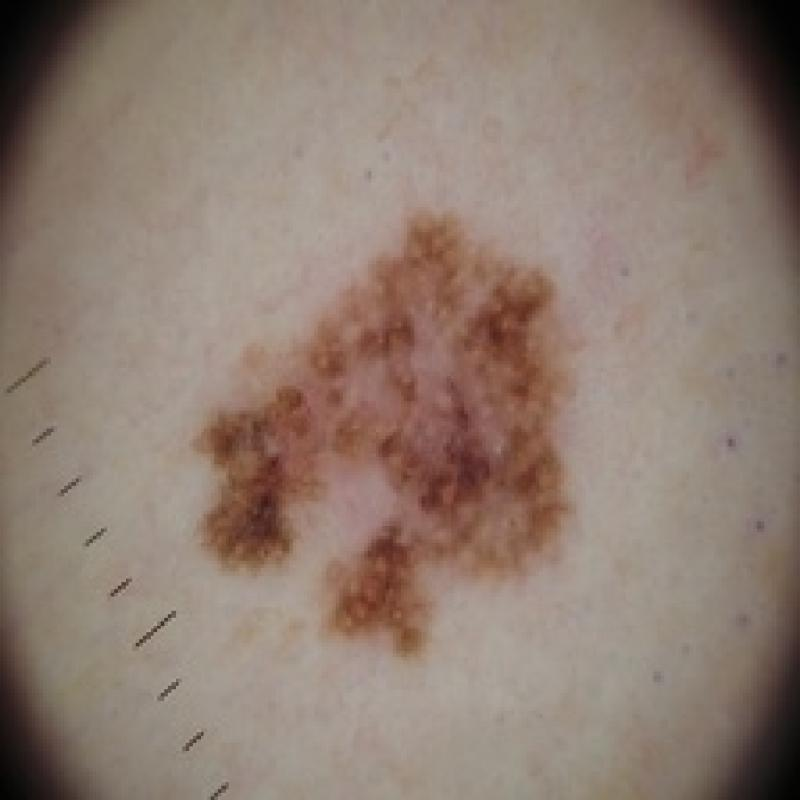malignant: (158, 213, 602, 680)
